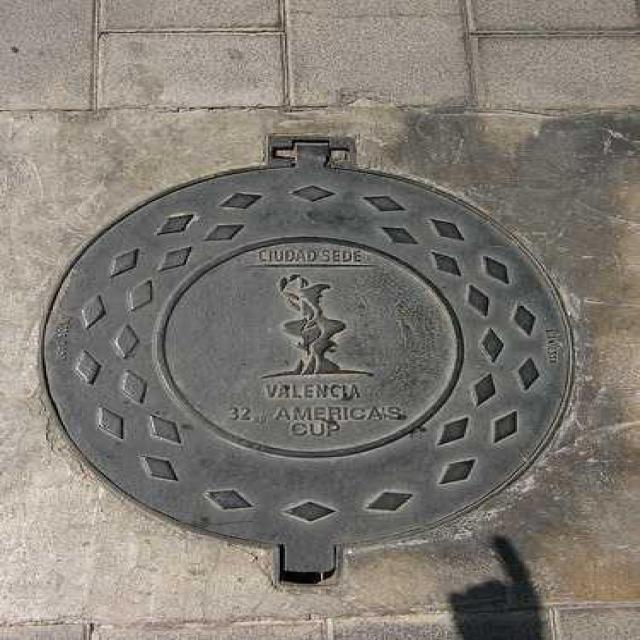manhole: (38, 138, 577, 586)
